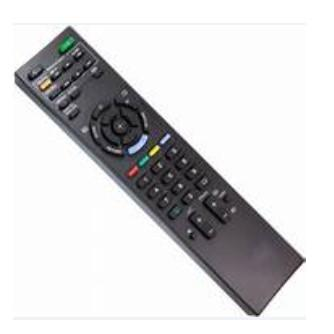Remote control: (15, 26, 306, 317)
